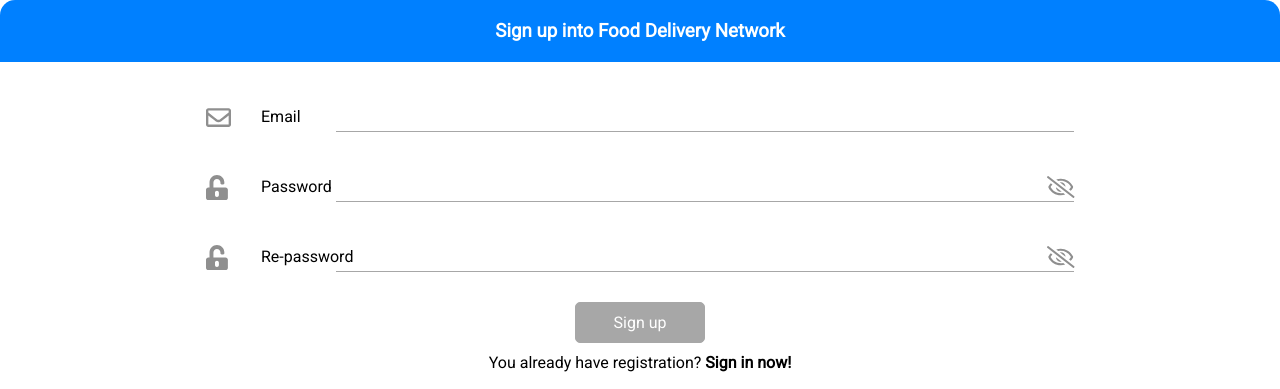
it: Register modal › button should be enabled
Type "pesho@abv.bg" into the field with test id "email" at point(705, 117), box top-left (336, 102), bottom-right (1074, 132)
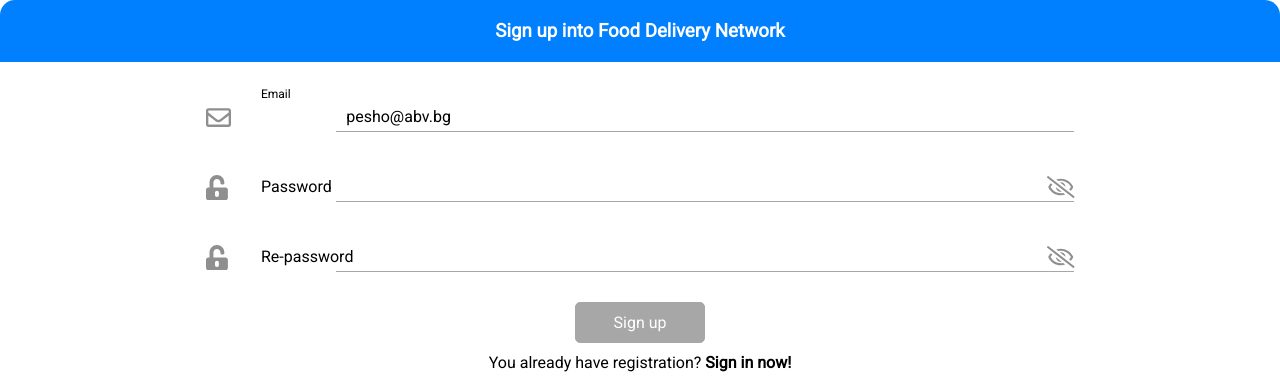
Type "123123" into the password field with test id "password" at point(705, 187), box top-left (336, 172), bottom-right (1074, 202)
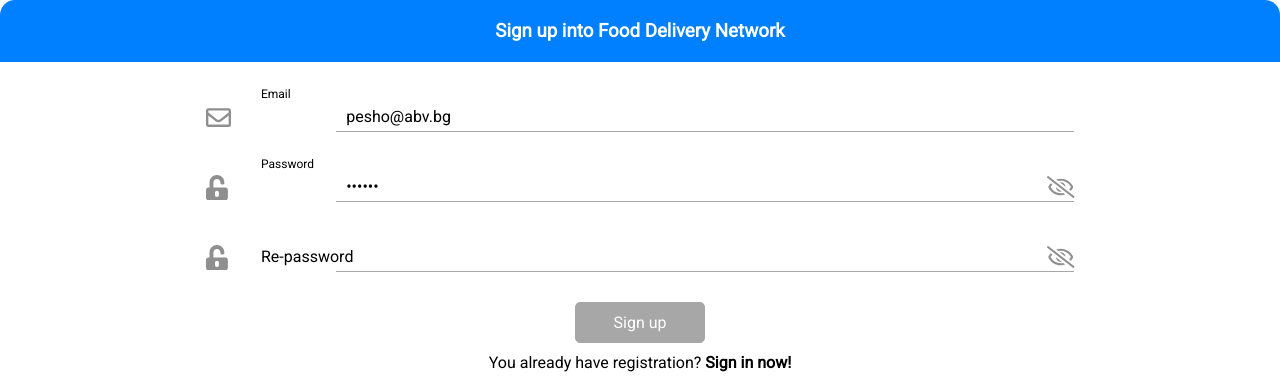
Type "123123" into the password field with test id "re-password" at point(705, 257), box top-left (336, 242), bottom-right (1074, 272)
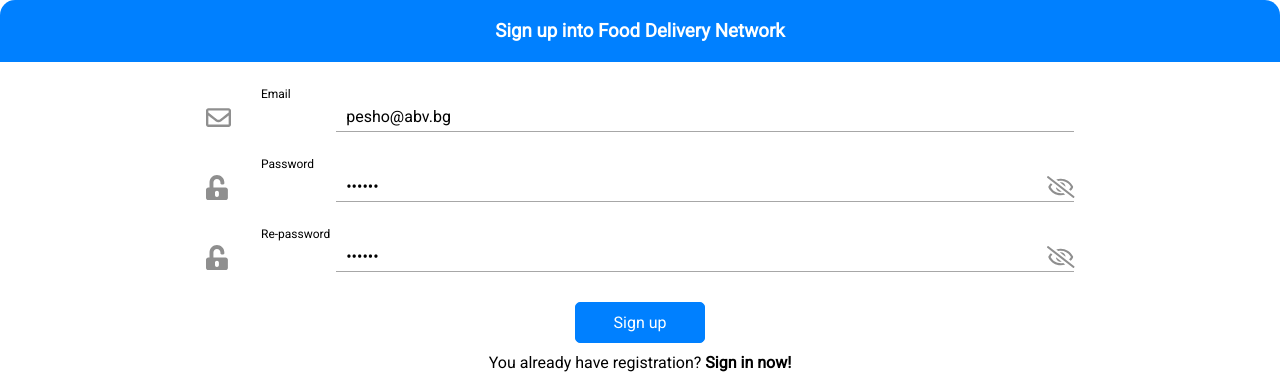
Now the button "Sign up" is enabled, box top-left (575, 302), bottom-right (705, 343)
